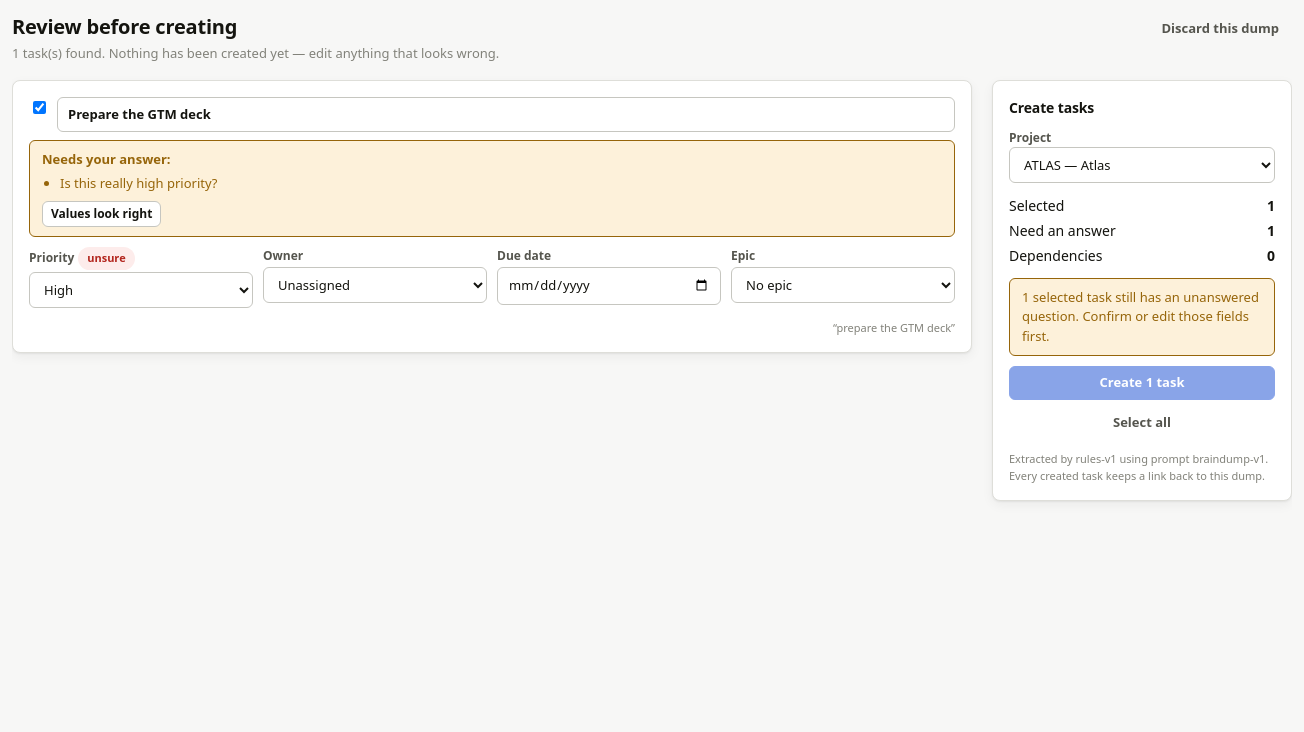
Test: ProposalReview › blocks creation while a selected task has an unanswered question
Expected: the list item "Is this really high priority?" is shown, x1=60 y1=174 x2=218 y2=192
Expected: the button "Create 1 task" is disabled, x1=1009 y1=366 x2=1275 y2=400
Click the button "Values look right" at (102, 214), box x1=42 y1=201 x2=161 y2=227
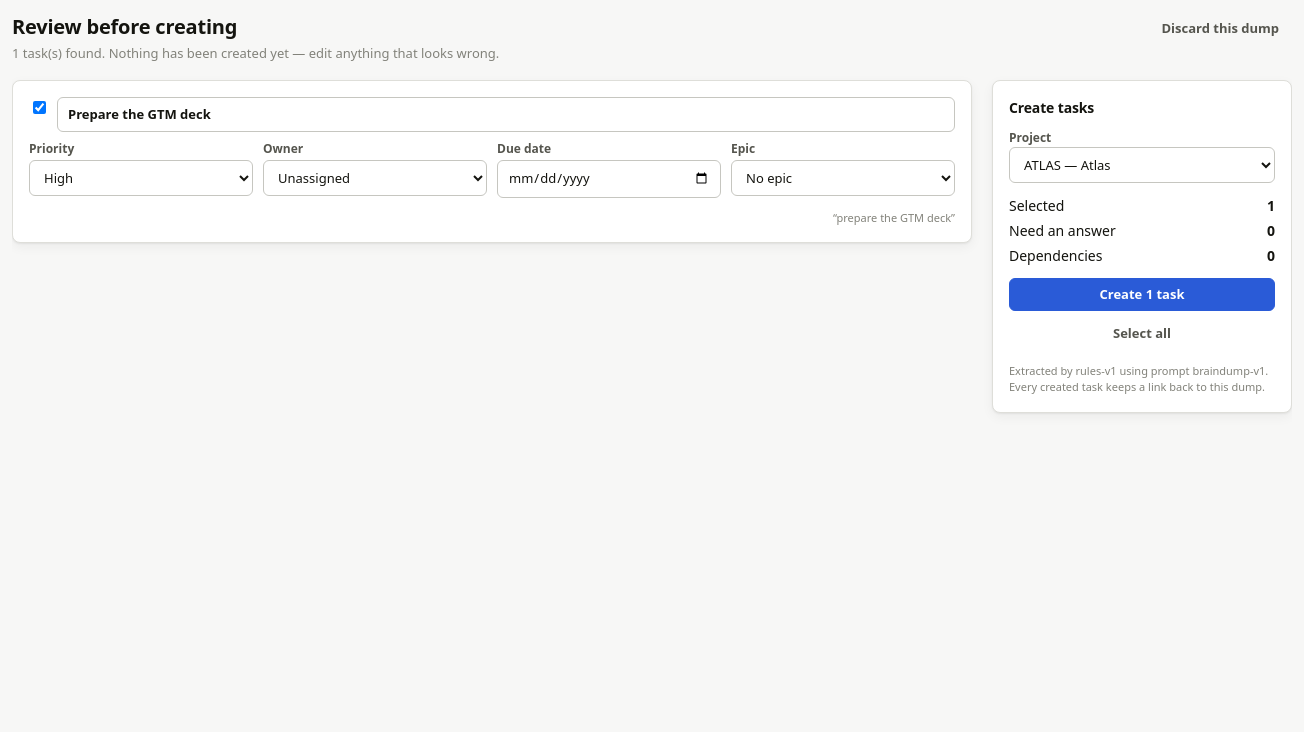
Expected: the button "Create 1 task" is enabled, x1=1009 y1=278 x2=1275 y2=311
